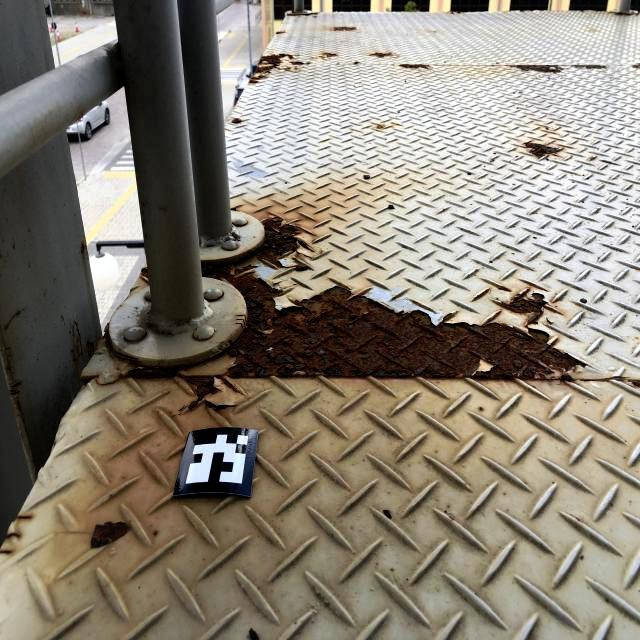Corrosion: (208, 267, 577, 379), (258, 215, 301, 263), (495, 289, 546, 324), (248, 54, 294, 83), (179, 377, 214, 413), (523, 141, 560, 160), (509, 64, 562, 73), (125, 368, 177, 377), (370, 51, 393, 58), (400, 64, 431, 69), (575, 65, 607, 69), (333, 26, 357, 31), (289, 60, 307, 66), (140, 267, 148, 279), (376, 123, 385, 130), (324, 53, 336, 57), (276, 31, 285, 34)
